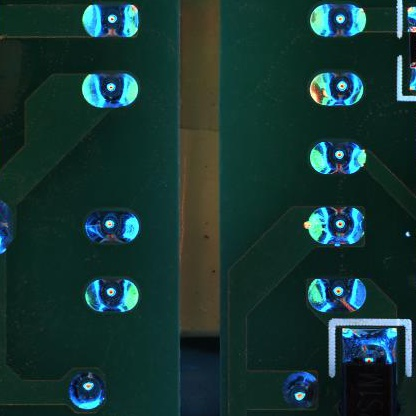spot: (304, 206, 367, 246), (307, 276, 368, 316), (80, 71, 139, 110), (83, 275, 140, 315), (310, 138, 368, 175), (81, 4, 140, 40), (307, 4, 367, 39), (308, 70, 363, 107), (85, 209, 139, 245), (68, 370, 107, 412), (283, 371, 319, 411)
